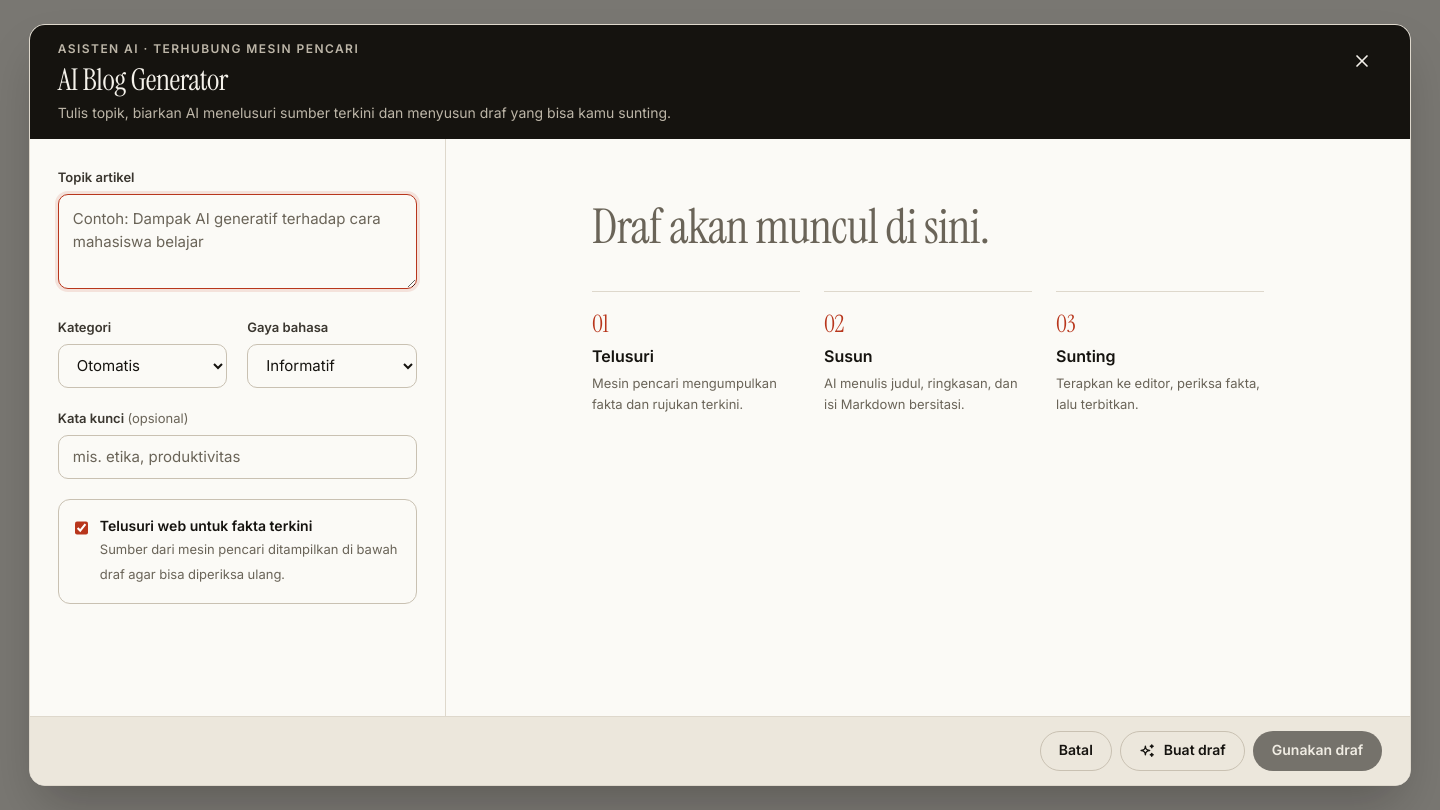
Test: AiPostGeneratorModal › labels outline fallbacks and hides empty source lists
Type "AI" into the text box labelled "Topik artikel" at (237, 242), box [58, 194, 417, 289]
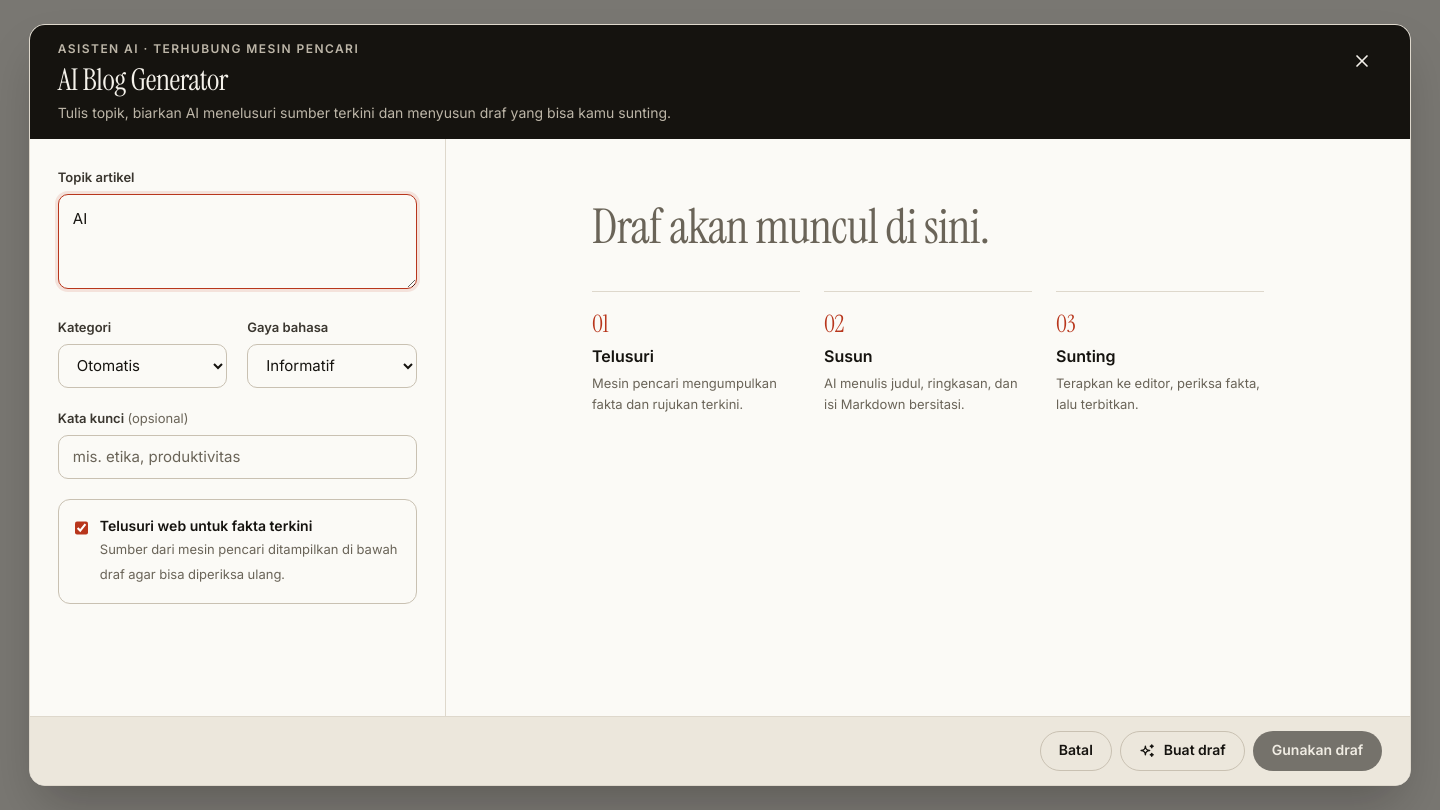
Click the button "Buat draf" at (1182, 751), box [1120, 731, 1245, 771]
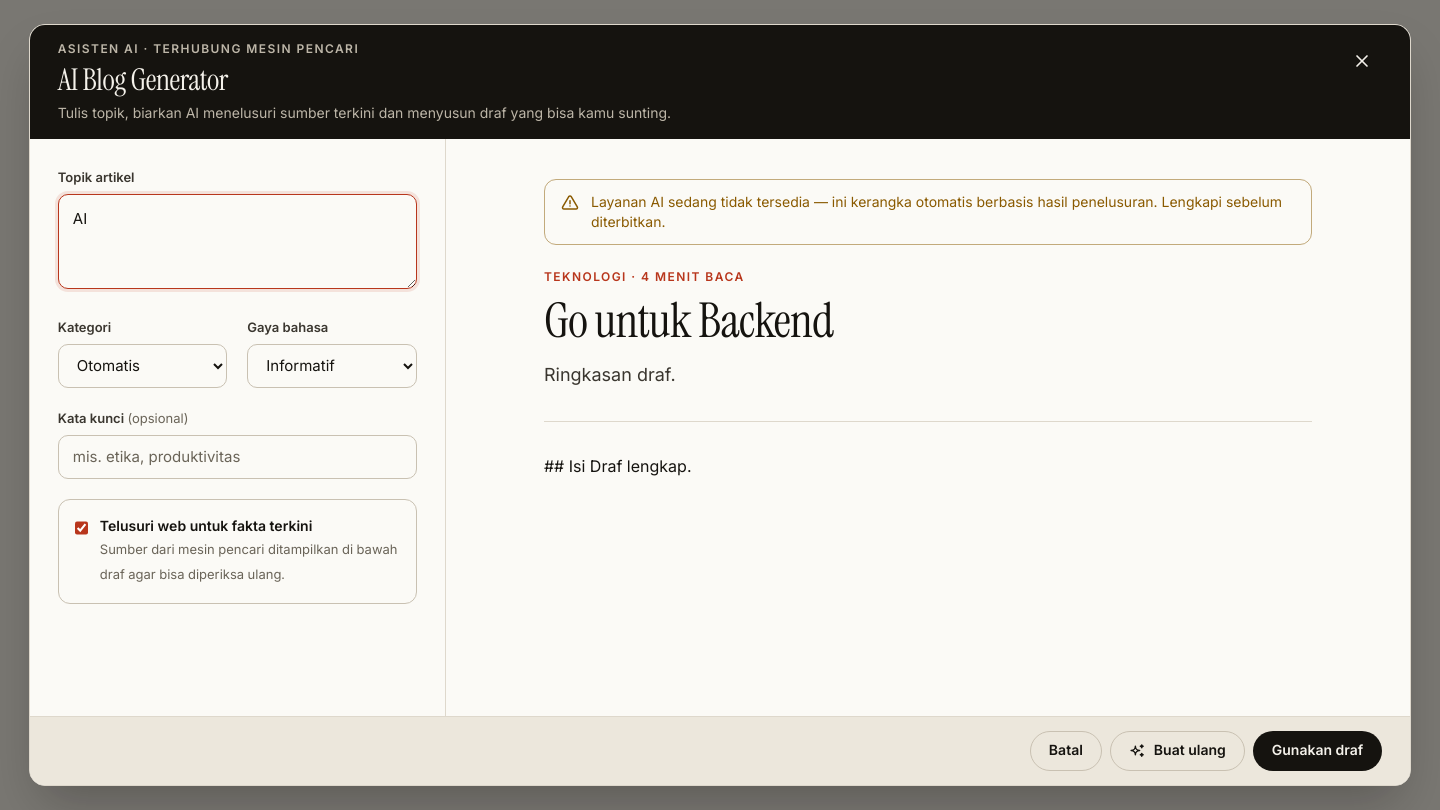
Check: the text "Layanan AI sedang tidak tersedia" is shown, box [591, 193, 1282, 230]
